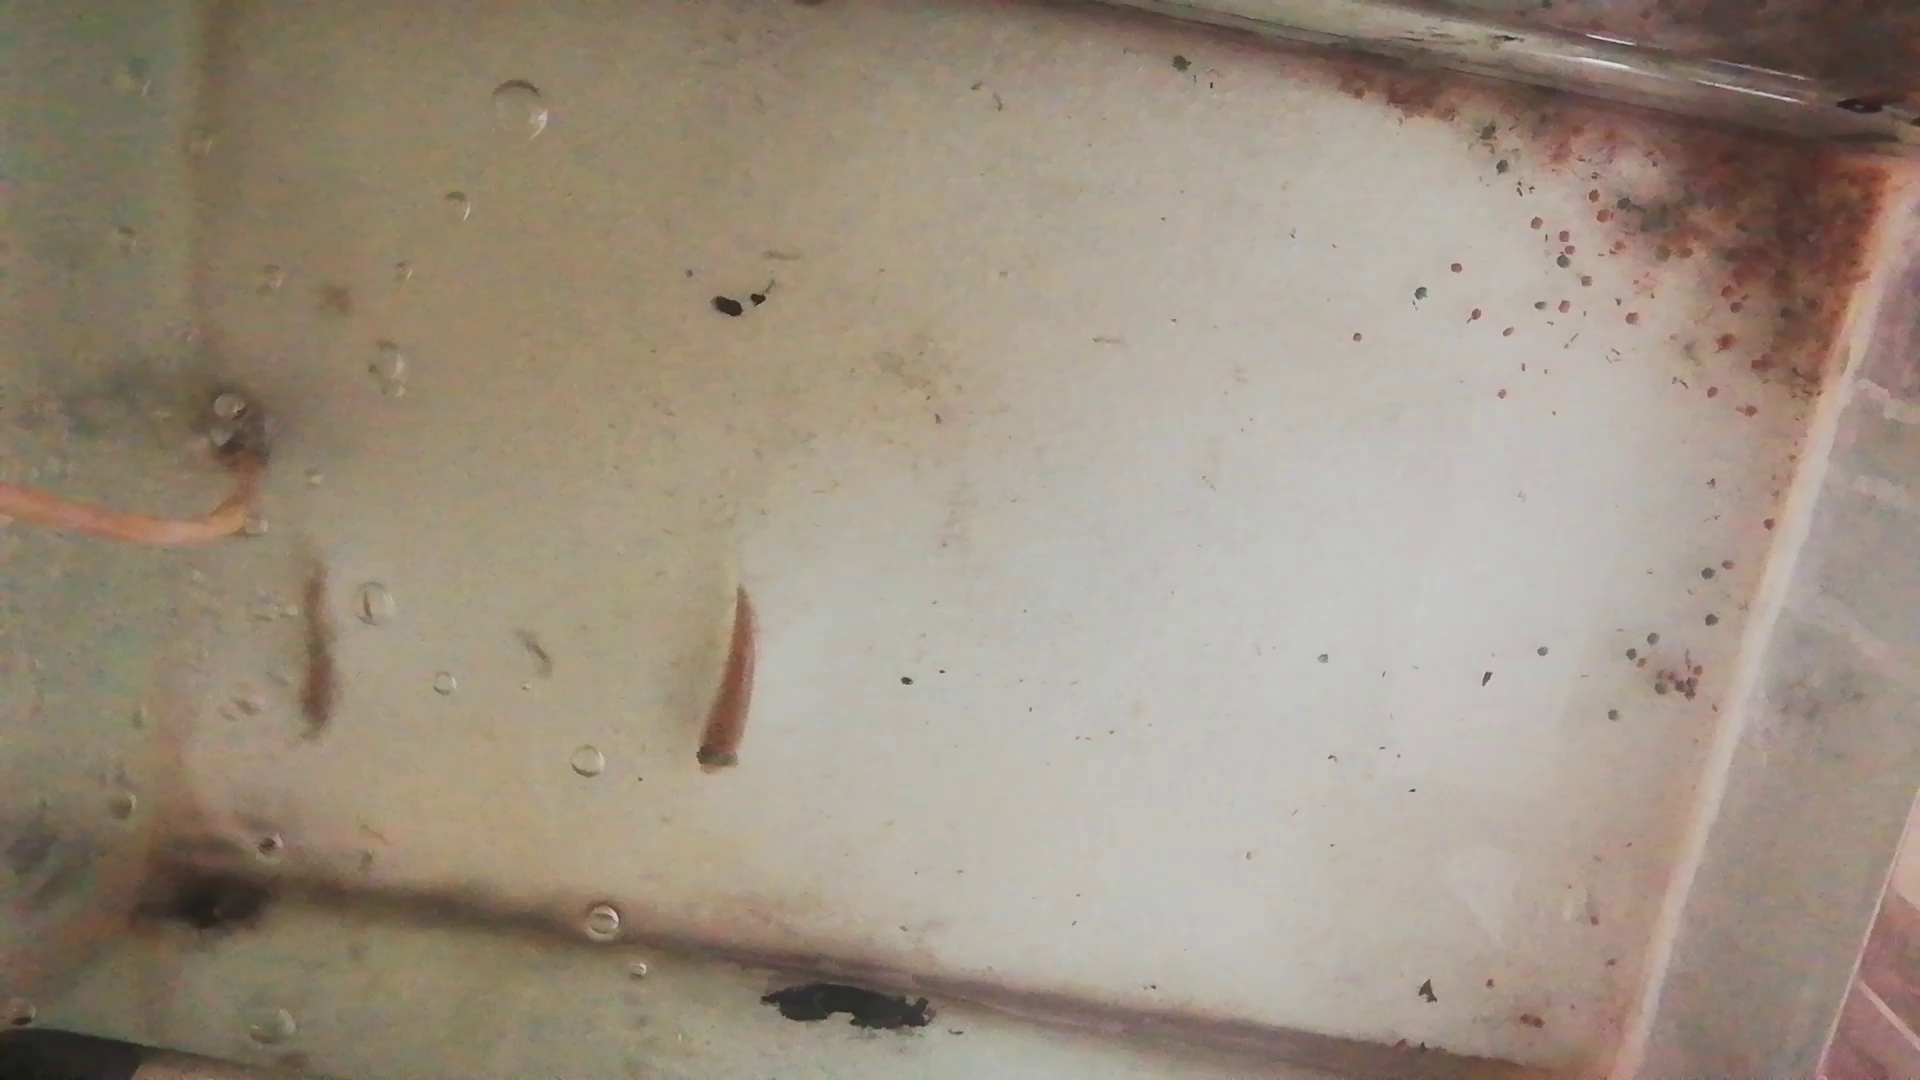fish: (696, 585, 756, 781), (291, 551, 339, 738)
